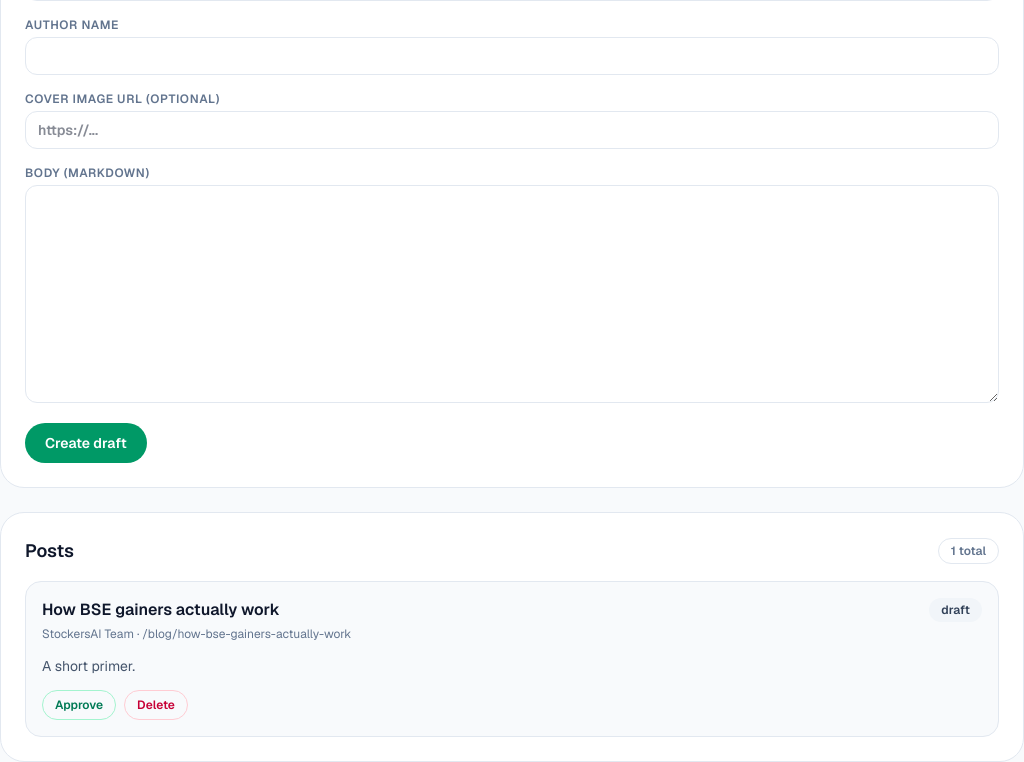
Scenario: AdminBlog › approves a draft
(page scrolled)
Expected: the text "draft" is shown, [929,598,982,622]
Click the button "Approve": (79,705) [42,690,116,720]
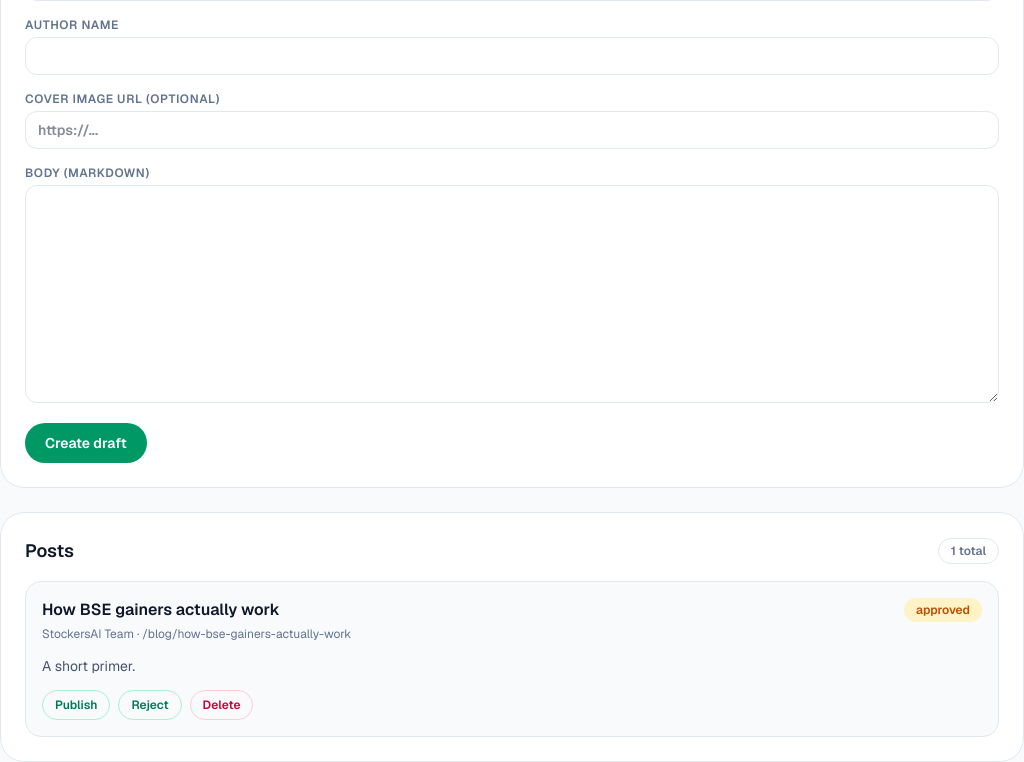
Result: the text "approved" is shown at [904,598,982,622]
